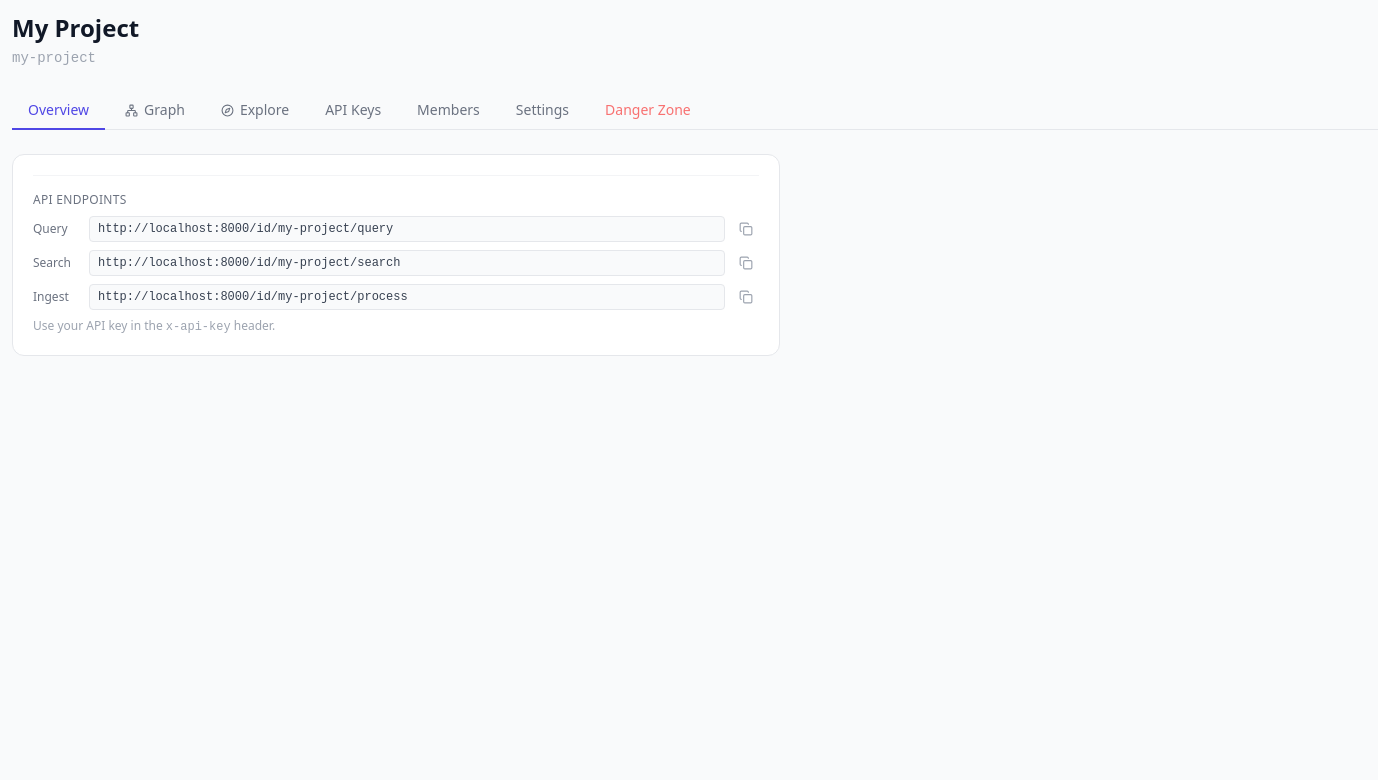
ProjectDetail page › Settings tab version › shows the algorithm version read-only with a hint
Expected: the heading "My Project" is shown, [12,11,139,44]
Click the tab "Settings". click: {"x": 542, "y": 111}
box: [500,92,585,130]
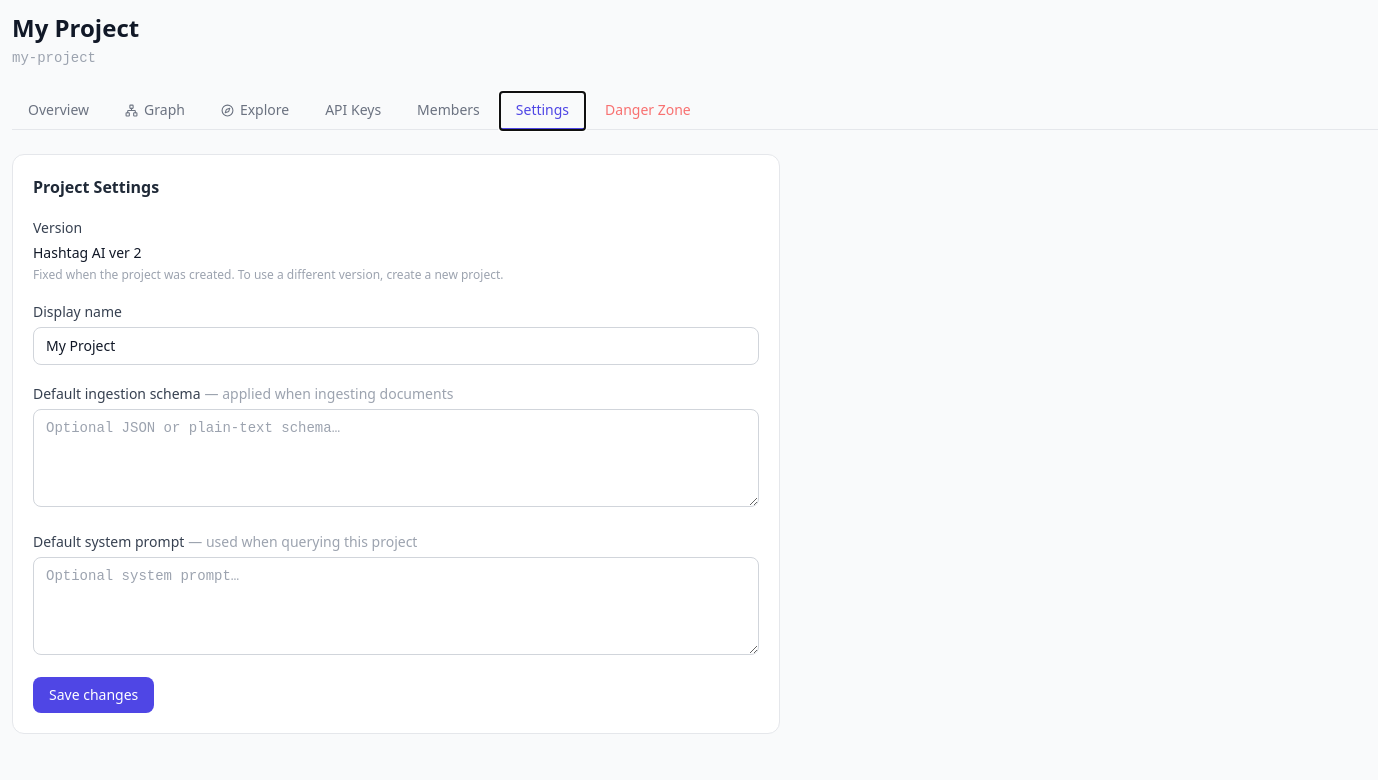
Expected: the text with test id "project-algorithm" reads "Hashtag AI ver 2", [33,243,142,262]
Expected: the text "Fixed when the project was created" is shown, [33,266,504,283]
